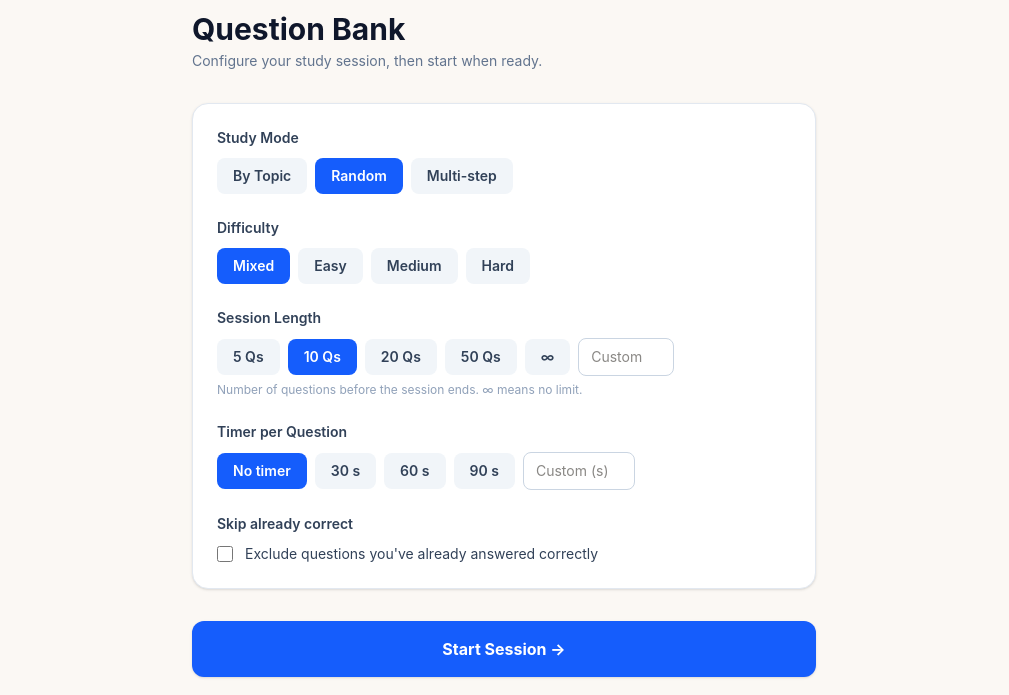
Test: QuestionsPage › starting a random session loads and shows question stem
Click the button "Start Session →" at (504, 649), box [192, 621, 816, 677]
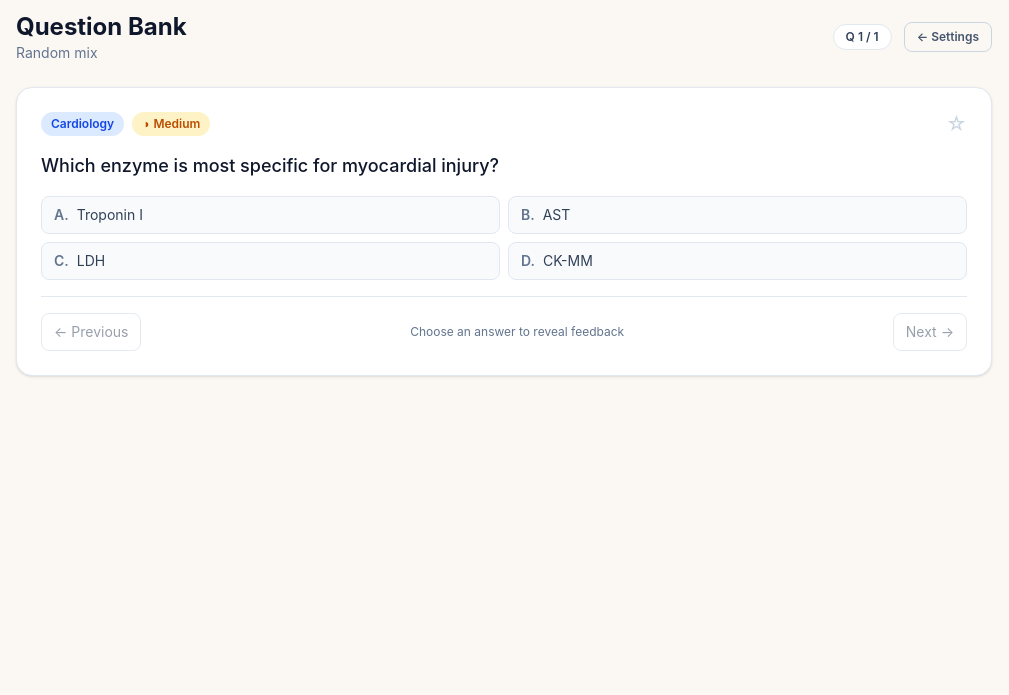
Now the text "Which enzyme is most specific for myocardial injury?" is shown, box [41, 155, 499, 176]
